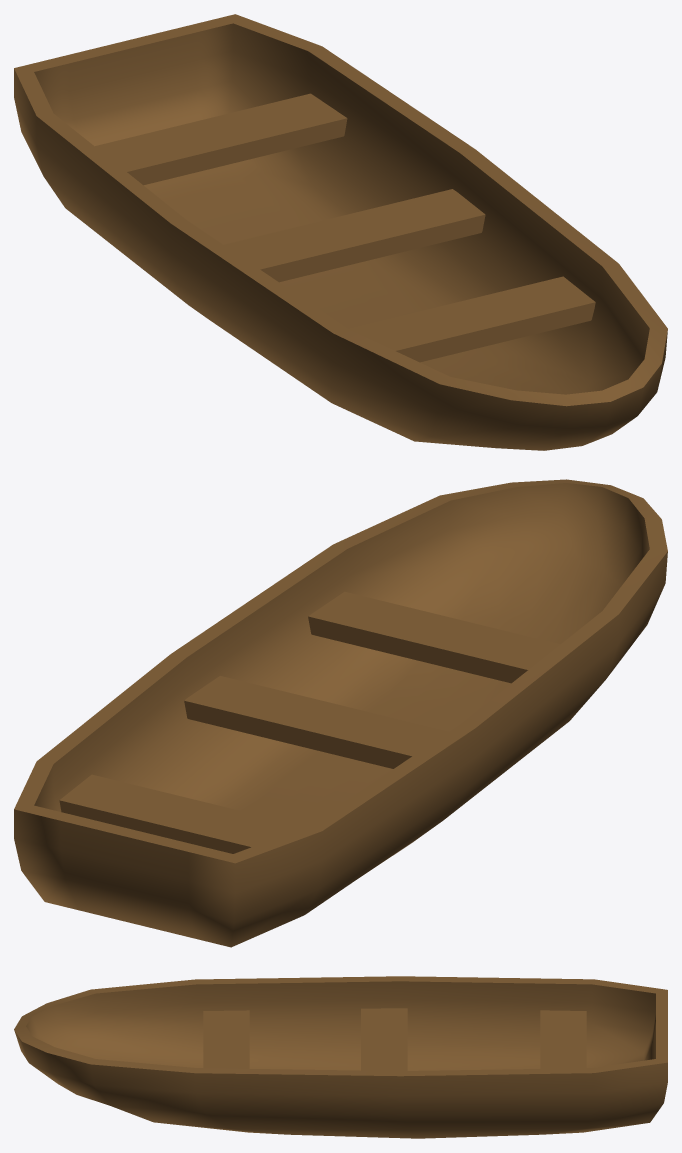
The model's file is BOAT.fbx.
The picture shows the model from 3 angles, top to bottom: view 1: azimuth 30°, elevation 25°; view 2: azimuth 150°, elevation 25°; view 3: azimuth 270°, elevation 25°; orthographic projection. The views are drawn at different scales.
Parts seen in each view (by area): view 1: polySurface3, pCube2, pCube1, pCube3; view 2: polySurface3, pCube2, pCube3, pCube1; view 3: polySurface3, pCube2, pCube1, pCube3.
Boxes of the visible parts, x1,y1,x2,y2 form: polySurface3: (14, 14, 667, 450); pCube2: (224, 189, 485, 282); pCube1: (95, 93, 347, 185); pCube3: (349, 276, 595, 362); polySurface3: (14, 479, 667, 947); pCube2: (184, 676, 448, 768); pCube3: (308, 591, 559, 683); pCube1: (59, 774, 305, 853); polySurface3: (14, 976, 667, 1138); pCube2: (361, 1008, 407, 1070); pCube1: (540, 1010, 586, 1068); pCube3: (203, 1010, 249, 1068).
Size of the model in its own units: 3.92 by 1.56 by 10.85.
